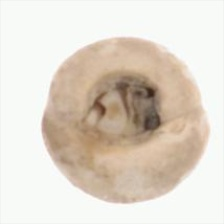L3: (82, 74, 163, 141)
L4: (42, 37, 210, 203)
